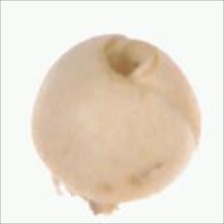L3: (100, 33, 160, 81)
L4: (31, 33, 201, 215)
